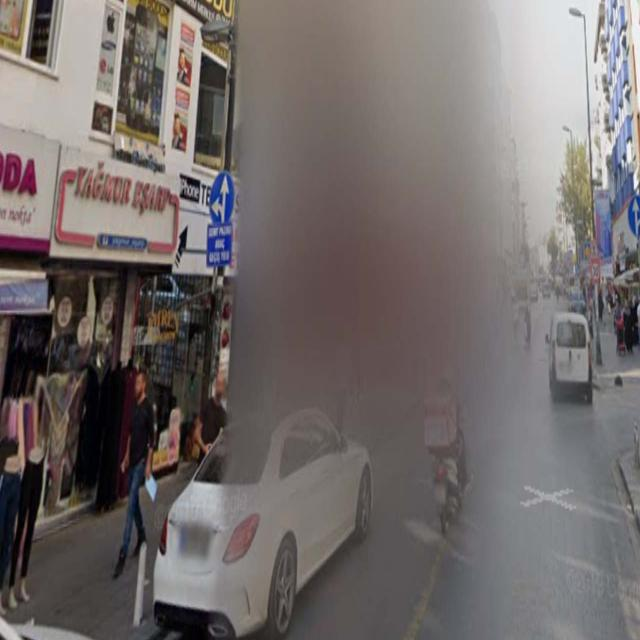ilerisol: (209, 166, 235, 230)
